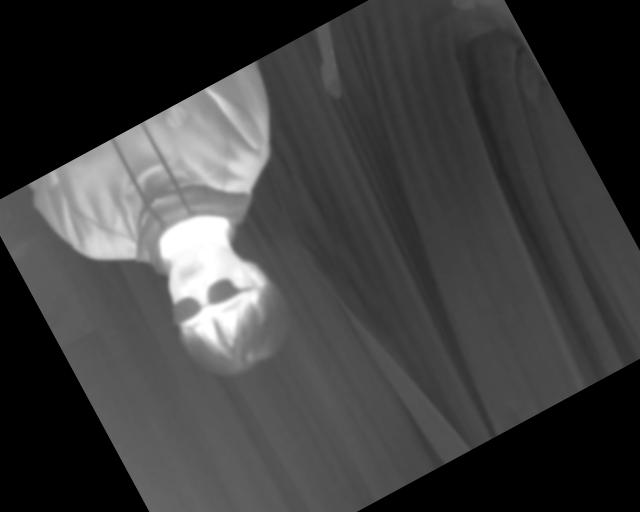face: (144, 221, 306, 392)
